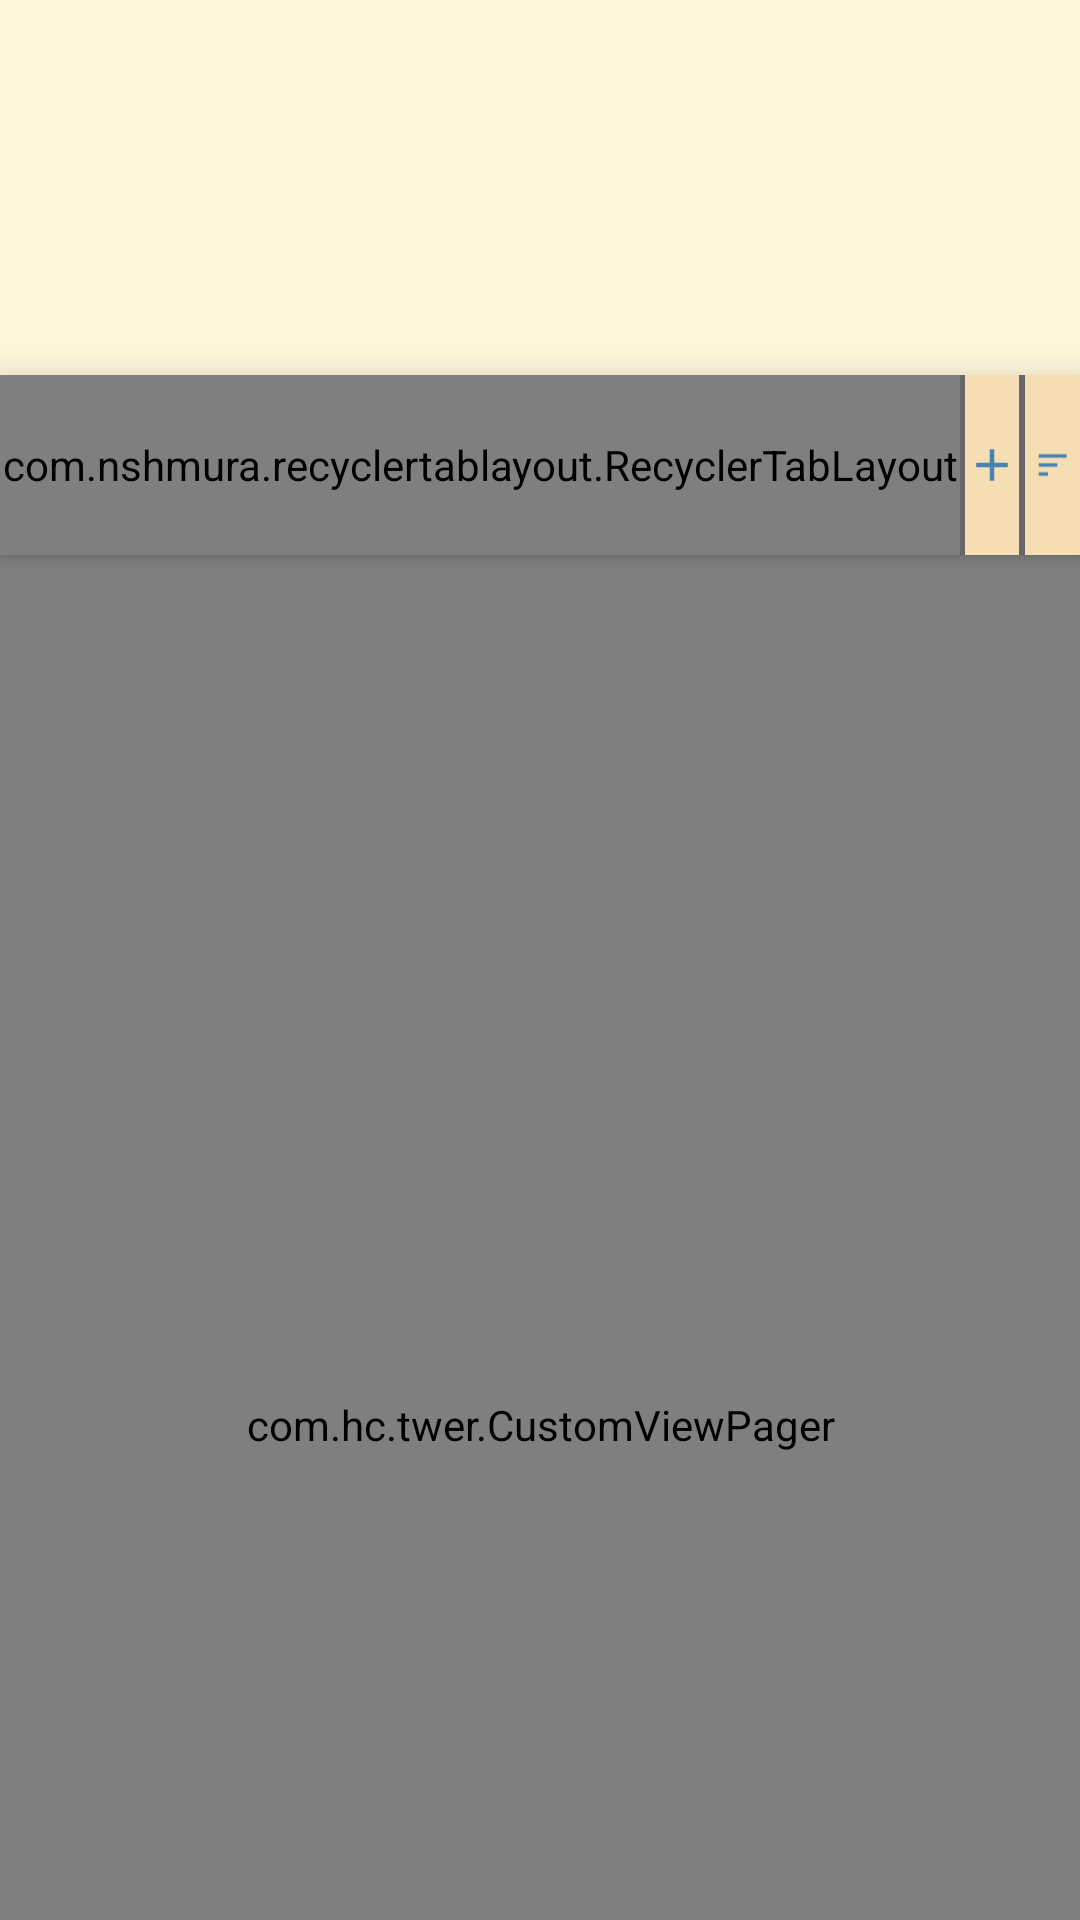

Point at icon controls on the screen. Image size 1080 x 1920, points as (x=x, y=y).
add: (x=992, y=465)
sort: (x=1052, y=465)
